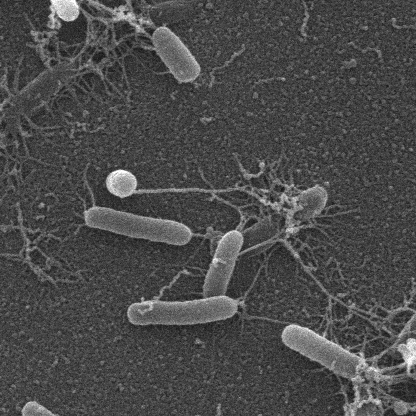cell2cell: (130, 184, 286, 201), (75, 0, 150, 32), (119, 0, 146, 29), (361, 349, 402, 368), (238, 316, 288, 331), (363, 407, 416, 416)
cell2surface: (285, 237, 358, 315), (242, 227, 294, 256), (153, 268, 189, 304)
regular: (285, 331, 371, 381), (85, 209, 194, 248), (128, 295, 241, 329), (150, 31, 203, 84), (205, 231, 242, 298), (105, 171, 138, 196), (24, 406, 85, 416), (49, 0, 77, 21)
